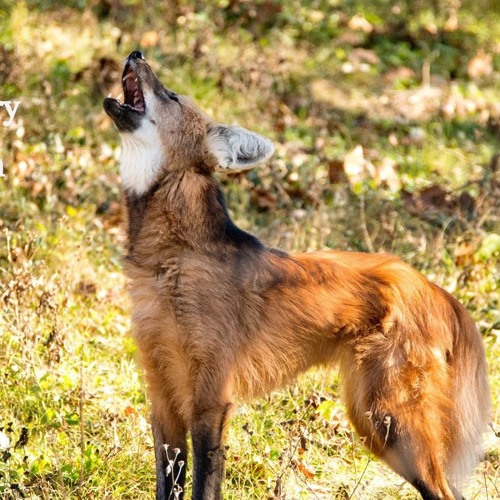LoboGuara: (91, 44, 493, 495)
